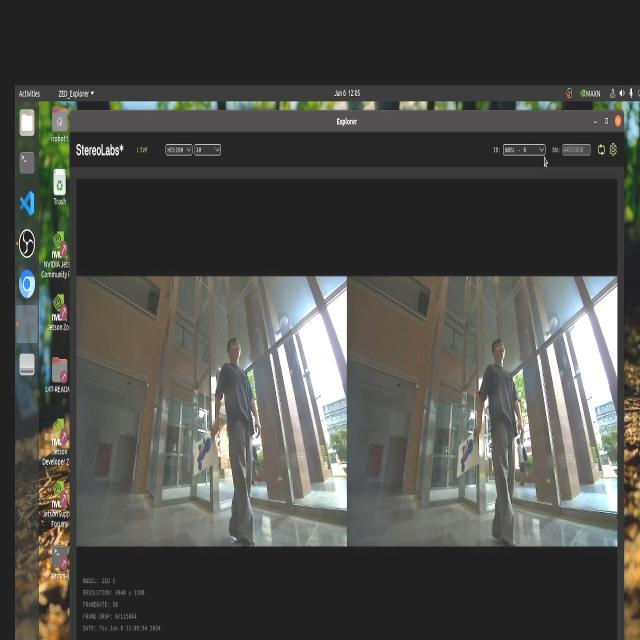blue: (186, 432, 228, 472), (454, 442, 474, 471)
